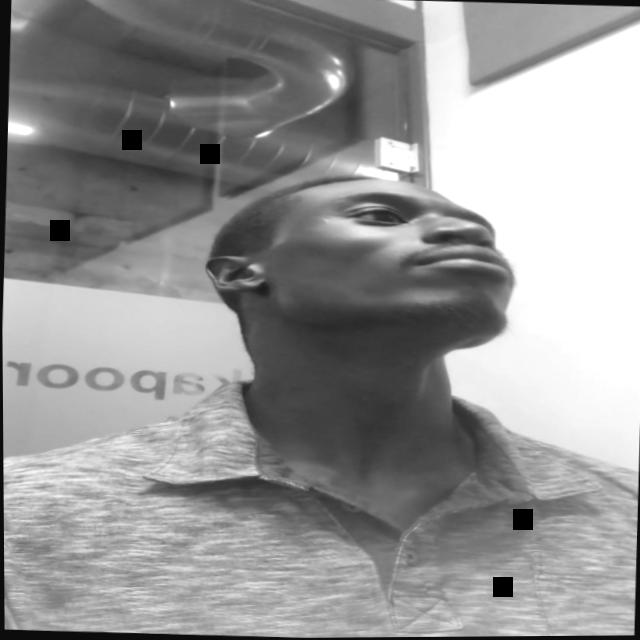NO-Mask: (232, 178, 517, 352)
